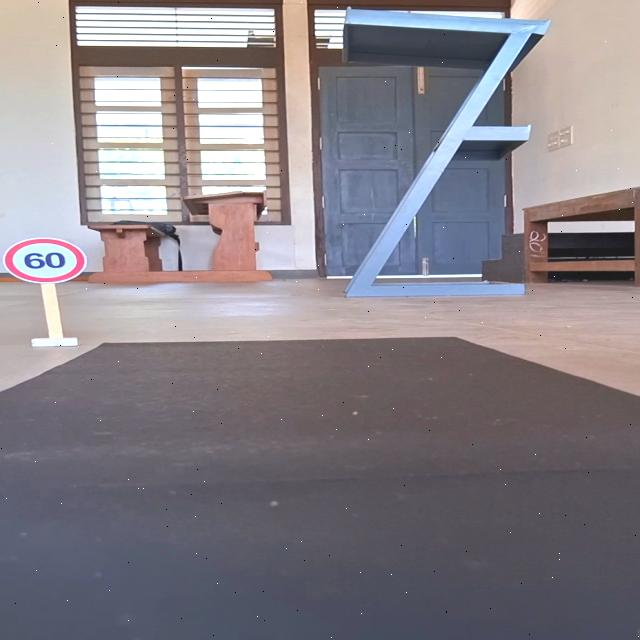Speed60: (2, 237, 88, 284)
